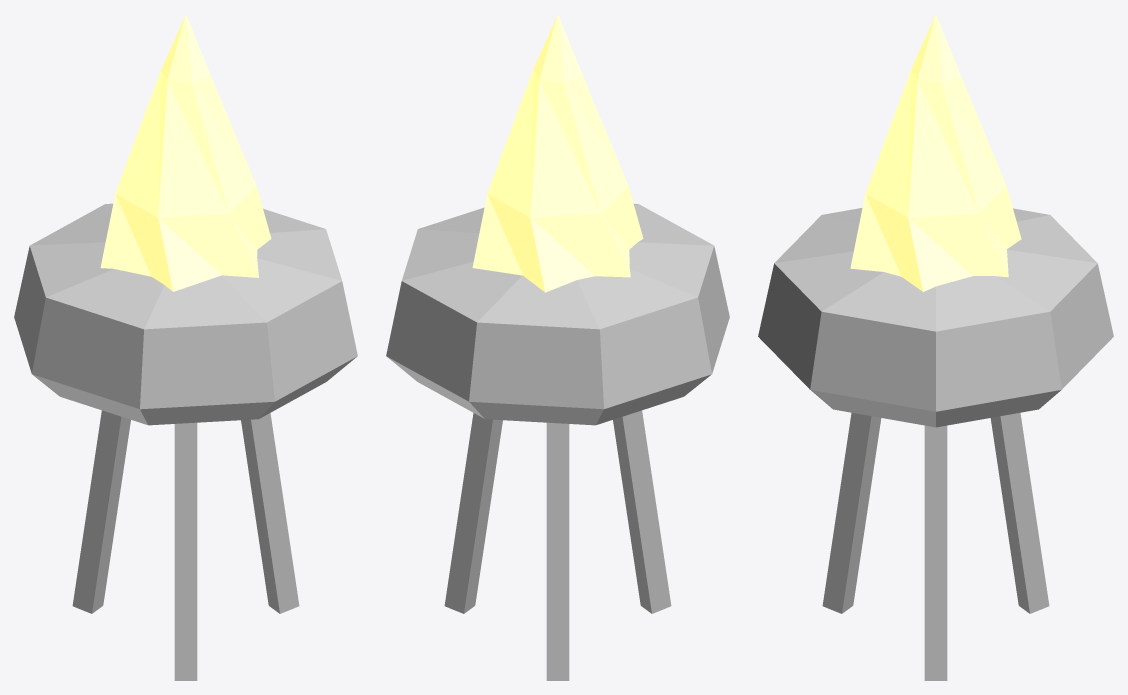
File: brazier.glb
The picture shows the model from 3 angles, left to right: view 1: azimuth 30°, elevation 25°; view 2: azimuth 150°, elevation 25°; view 3: azimuth 270°, elevation 25°; orthographic projection.
Visible parts, largest first — view 1: Brazier, Fire; view 2: Brazier, Fire; view 3: Brazier, Fire.
Part boxes in pixels (<box>): Brazier: <box>14,203,357,680</box>; Fire: <box>100,14,271,291</box>; Brazier: <box>386,204,729,680</box>; Fire: <box>472,14,643,292</box>; Brazier: <box>758,208,1113,680</box>; Fire: <box>850,14,1021,291</box>.
Size of the model in its own units: 1.1 by 2.11 by 1.1.
